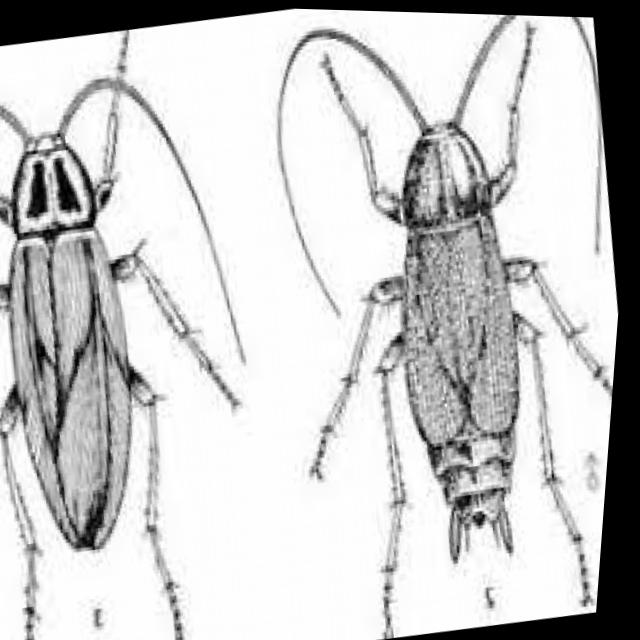Cockroach: (225, 6, 640, 640), (0, 20, 264, 640)
